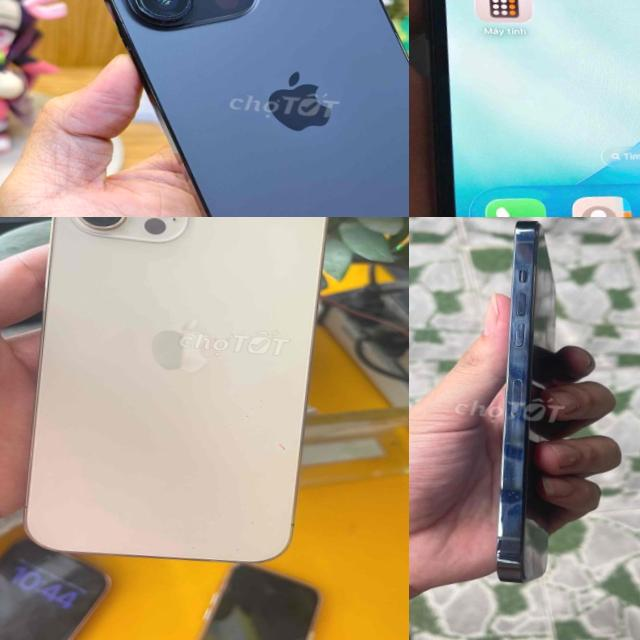scratch: (494, 454, 532, 528)
